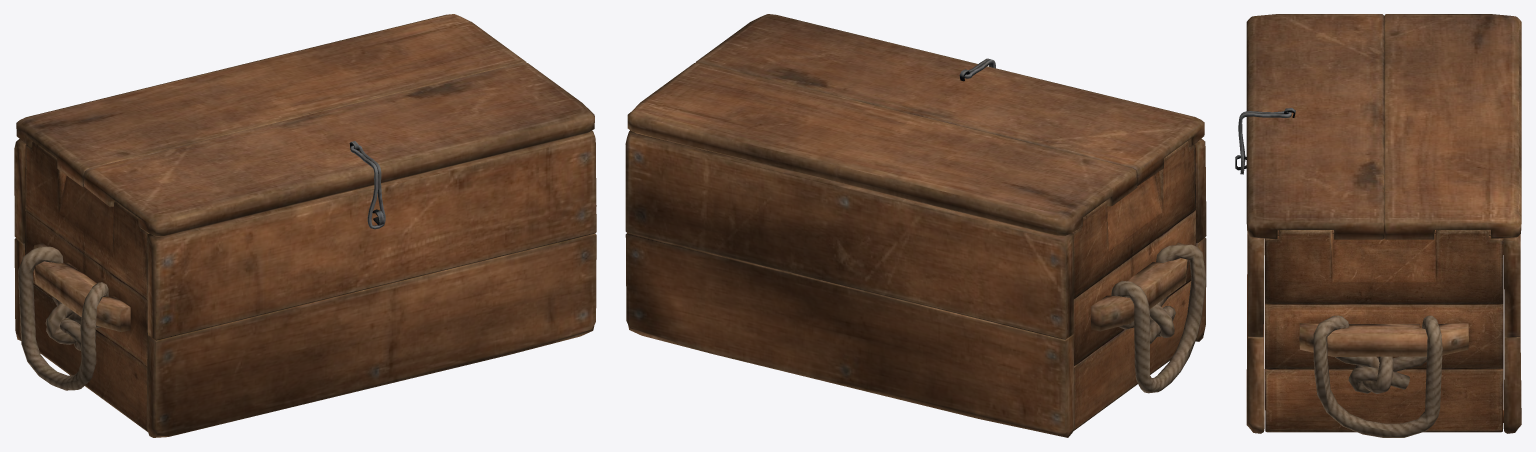
The model's file is wooden_crate_01_2k.gltf.
The picture shows the model from 3 angles, left to right: view 1: azimuth 30°, elevation 25°; view 2: azimuth 150°, elevation 25°; view 3: azimuth 270°, elevation 25°; orthographic projection. The views are drawn at different scales.
Visible parts, largest first — view 1: wooden_crate_01, wooden_crate_01_lid, wooden_crate_01_latch; view 2: wooden_crate_01, wooden_crate_01_lid; view 3: wooden_crate_01_lid, wooden_crate_01, wooden_crate_01_latch.
Boxes of the visible parts, x1,y1,x2,y2 form: wooden_crate_01: (14, 131, 596, 437); wooden_crate_01_lid: (16, 14, 594, 236); wooden_crate_01_latch: (350, 145, 385, 229); wooden_crate_01: (625, 130, 1206, 437); wooden_crate_01_lid: (627, 14, 1204, 236); wooden_crate_01_lid: (1246, 14, 1521, 239); wooden_crate_01: (1235, 155, 1521, 437); wooden_crate_01_latch: (1238, 111, 1291, 174).
Bounding box in the file's own units: 0.8245 × 0.348 × 0.407.
Materials: 1 (1 with a texture image).
